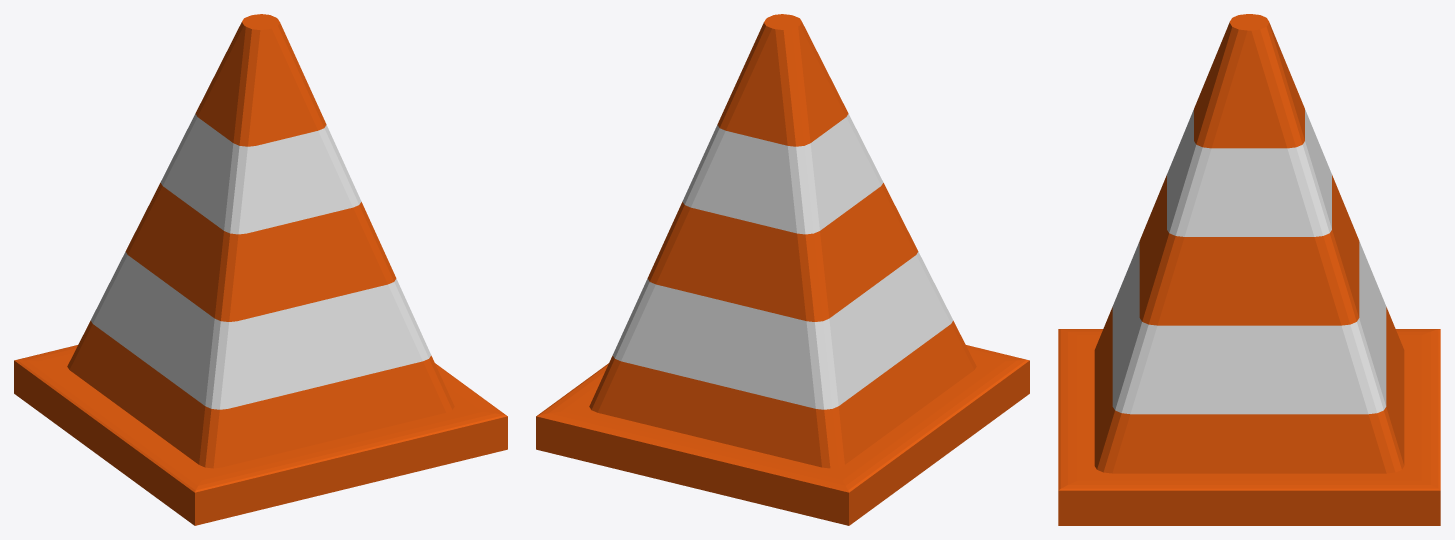
Rendered from TrafficCone.fbx.
The picture shows the model from 3 angles, left to right: view 1: azimuth 30°, elevation 25°; view 2: azimuth 150°, elevation 25°; view 3: azimuth 270°, elevation 25°; orthographic projection. The views are drawn at different scales.
Visible parts, largest first — view 1: Cube; view 2: Cube; view 3: Cube.
Part boxes in pixels (left/top/right/bottom): Cube: left=14, top=14, right=507, bottom=525; Cube: left=536, top=14, right=1029, bottom=525; Cube: left=1058, top=14, right=1440, bottom=525.
Bounding box in the file's own units: 200 × 244 × 200.
